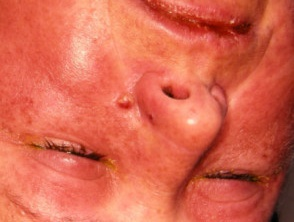SJS-TEN: (139, 0, 261, 52)
